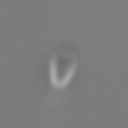normal: (48, 7, 90, 54)
